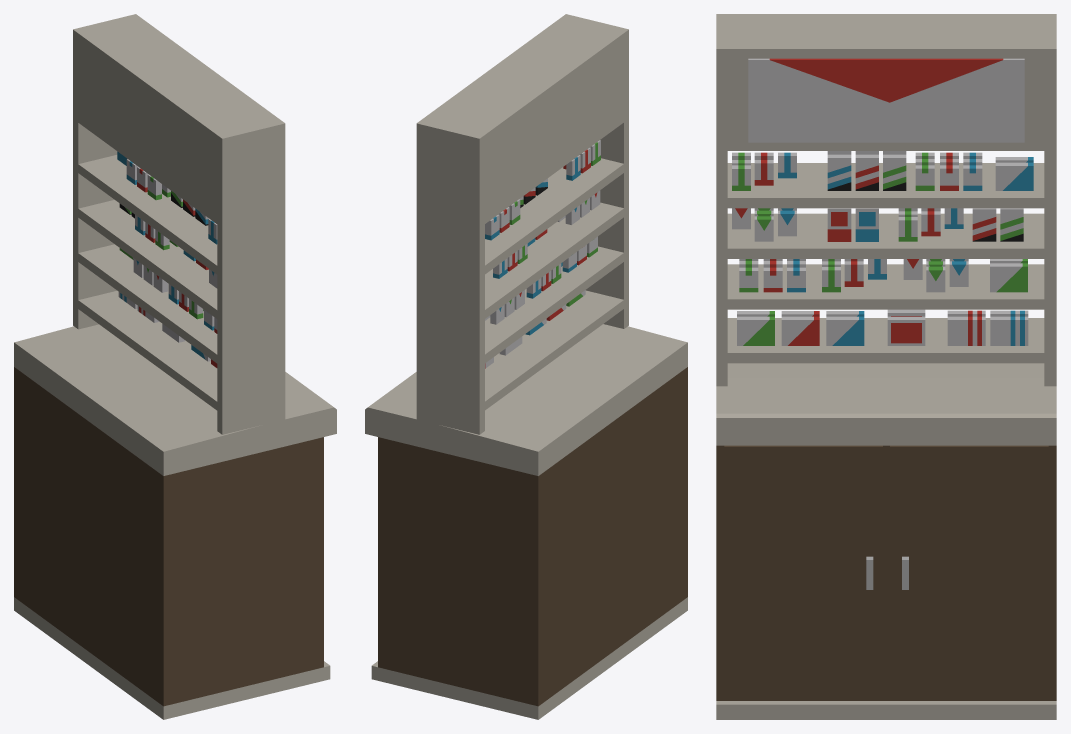
File: SM_cigarettesShelf_01.glb
The picture shows the model from 3 angles, left to right: view 1: azimuth 30°, elevation 25°; view 2: azimuth 150°, elevation 25°; view 3: azimuth 270°, elevation 25°; orthographic projection. The views are drawn at different scales.
Visible parts, largest first — view 1: SM_cigarettesShelf_01; view 2: SM_cigarettesShelf_01; view 3: SM_cigarettesShelf_01.
Part boxes in pixels (box(x1,y1,x2,y2)): SM_cigarettesShelf_01: box(14, 14, 336, 719); SM_cigarettesShelf_01: box(365, 14, 687, 719); SM_cigarettesShelf_01: box(716, 14, 1056, 719).
Bounding box in the file's own units: 0.6698 × 2.09 × 1.
Materials: 1 (1 with a texture image).
